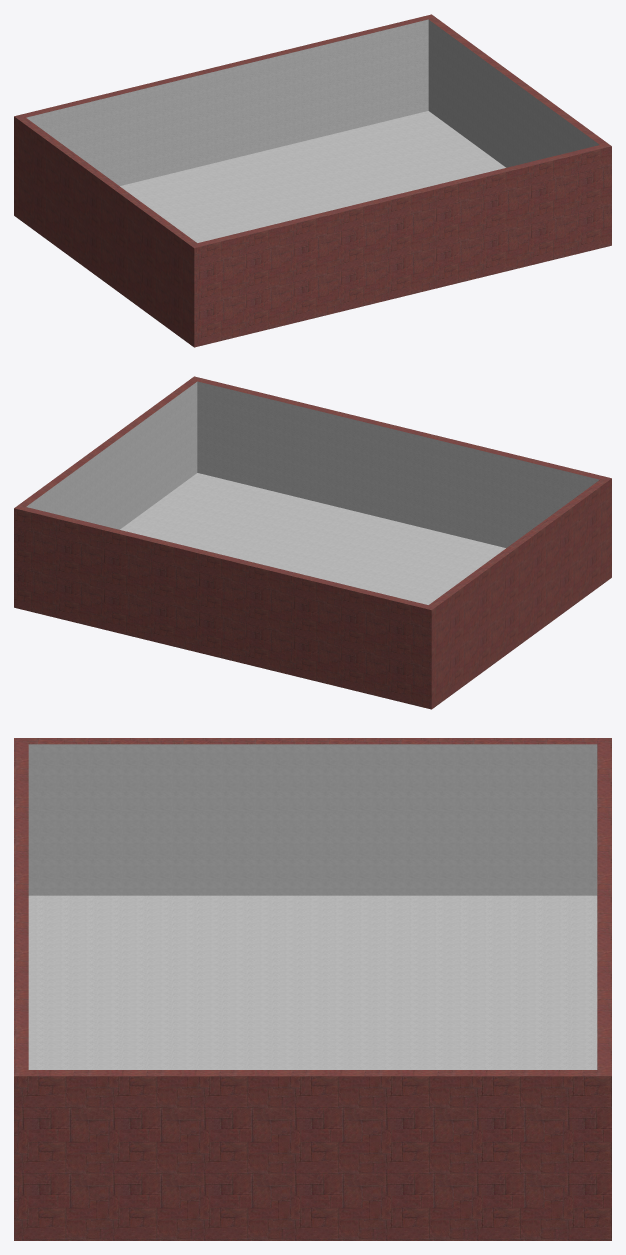
File: Pre_ozonation_Contact_Tank_expansion.glb
The picture shows the model from 3 angles, top to bottom: view 1: azimuth 30°, elevation 25°; view 2: azimuth 150°, elevation 25°; view 3: azimuth 270°, elevation 25°; orthographic projection. The views are drawn at different scales.
Visible parts, largest first — view 1: Mesh1; view 2: Mesh1; view 3: Mesh1.
Part boxes in pixels (bbox=[...]): Mesh1: bbox=[14, 14, 611, 347]; Mesh1: bbox=[14, 376, 611, 709]; Mesh1: bbox=[14, 738, 611, 1240].
Bounding box in the file's own units: 22 × 5 × 16.44.
2 materials, 2 textured.
